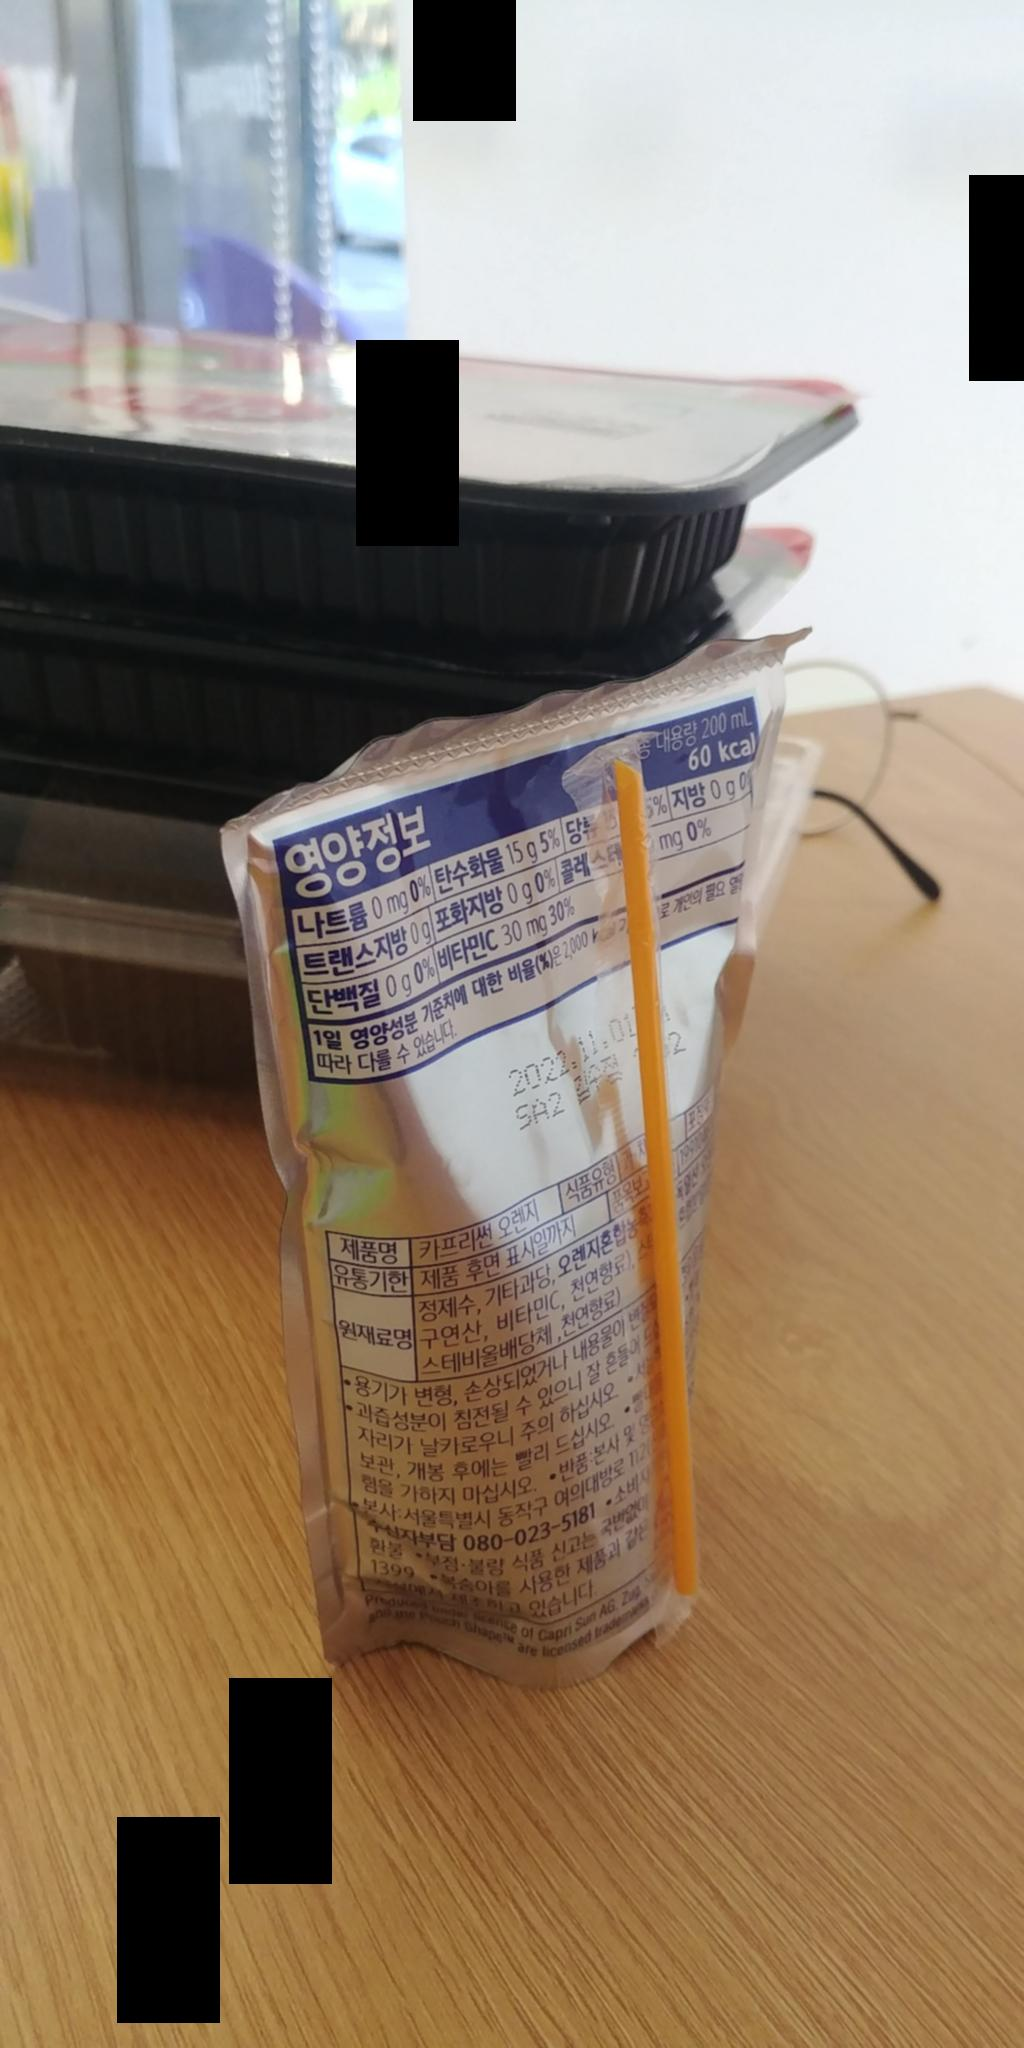cafrisun: (214, 628, 845, 1708)
